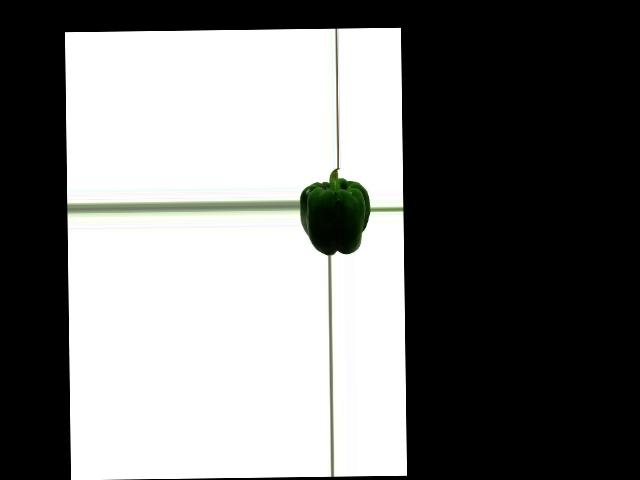bell_pepper: (301, 169, 370, 256)
